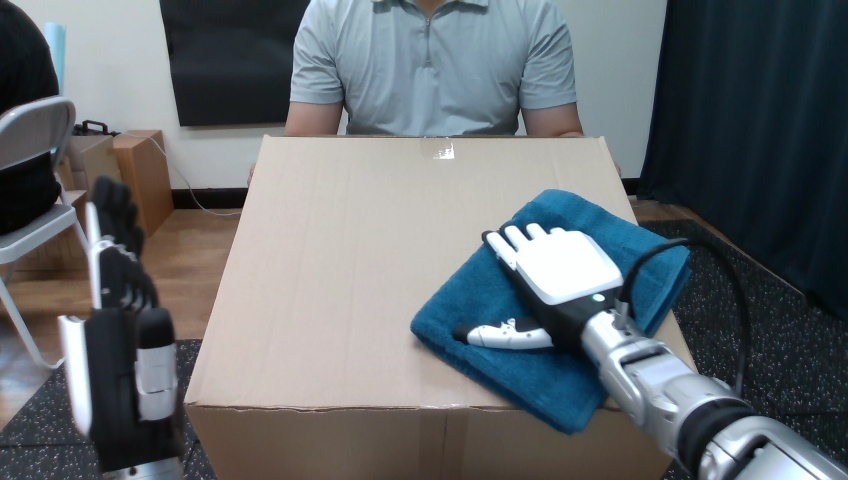left robot hand: (454, 224, 847, 478), (59, 177, 183, 479), (630, 243, 742, 390)
